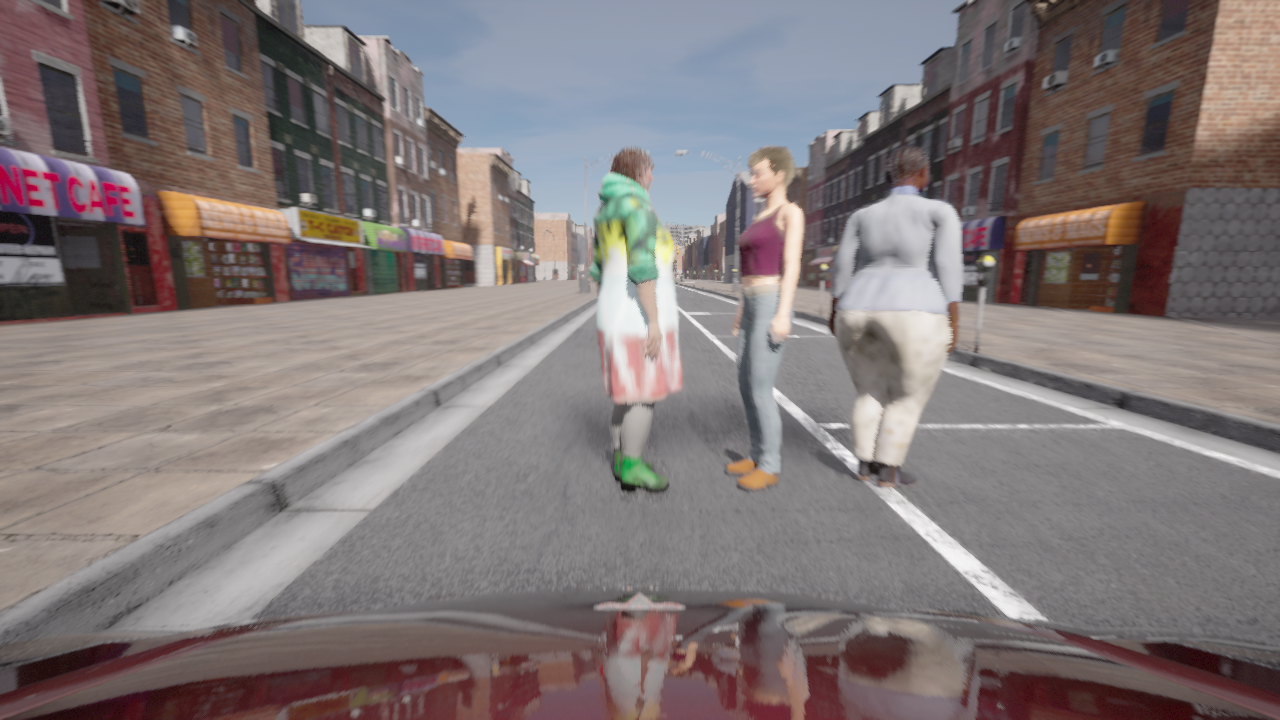cyclist: (0, 588, 1279, 719)
pedestrian: (828, 145, 962, 487), (588, 146, 683, 492), (726, 145, 803, 489)
